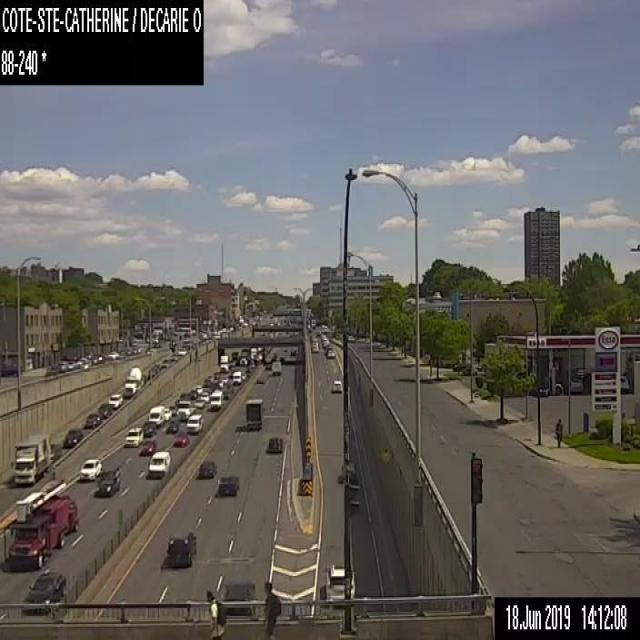pedestrian: (262, 581, 280, 639), (206, 590, 226, 638), (555, 417, 562, 448)
vehicle: (4, 479, 79, 570), (10, 433, 50, 484), (26, 572, 65, 610), (222, 581, 256, 624), (324, 563, 355, 601), (166, 530, 196, 567), (95, 464, 120, 496), (147, 450, 170, 478), (217, 468, 239, 496), (244, 398, 262, 429), (123, 366, 141, 396), (79, 458, 101, 480), (123, 426, 143, 447), (176, 400, 195, 420), (63, 428, 82, 447), (185, 413, 203, 433), (148, 404, 164, 426), (198, 459, 216, 477), (138, 438, 156, 456), (210, 389, 222, 410), (142, 420, 156, 436), (267, 436, 281, 452), (173, 432, 188, 446), (86, 412, 100, 427), (98, 402, 111, 418), (109, 392, 122, 408), (50, 442, 60, 462), (166, 417, 178, 433), (219, 354, 229, 372), (222, 384, 233, 398), (271, 361, 282, 375), (192, 397, 205, 408), (620, 374, 628, 390), (240, 348, 248, 364), (230, 350, 238, 365), (332, 380, 342, 392), (232, 371, 241, 384), (57, 360, 67, 371), (256, 373, 266, 383), (218, 376, 228, 386), (108, 350, 118, 360), (200, 391, 209, 402), (164, 406, 171, 420), (202, 377, 211, 386), (169, 404, 176, 415), (325, 343, 333, 352), (177, 347, 186, 355), (311, 341, 318, 351), (326, 349, 334, 357), (67, 361, 76, 368), (196, 384, 202, 394), (190, 388, 196, 398), (321, 338, 328, 346), (289, 349, 296, 356), (207, 374, 213, 382), (241, 373, 245, 379), (321, 324, 327, 328)
